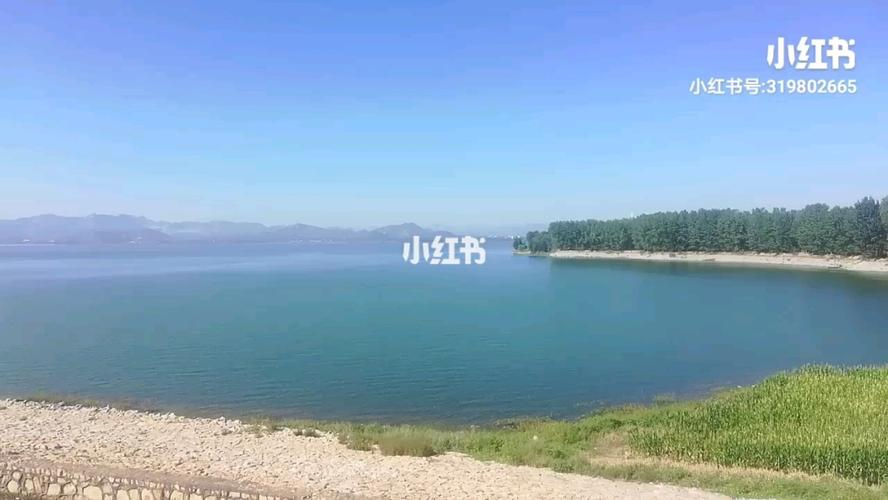mountain: (28, 213, 587, 266)
sea_river: (19, 261, 850, 393)
